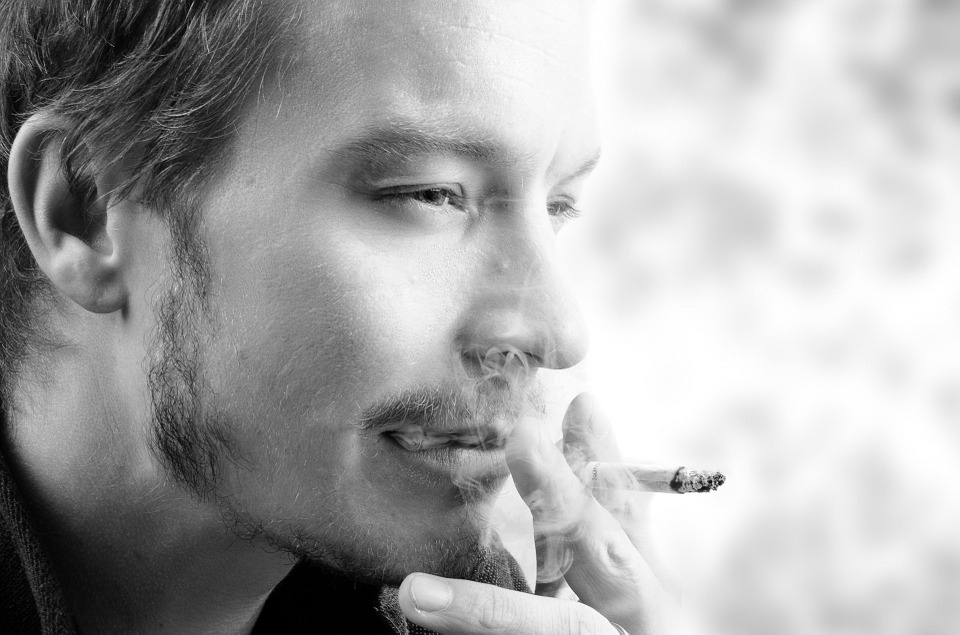sigaretta: (516, 465, 729, 502)
